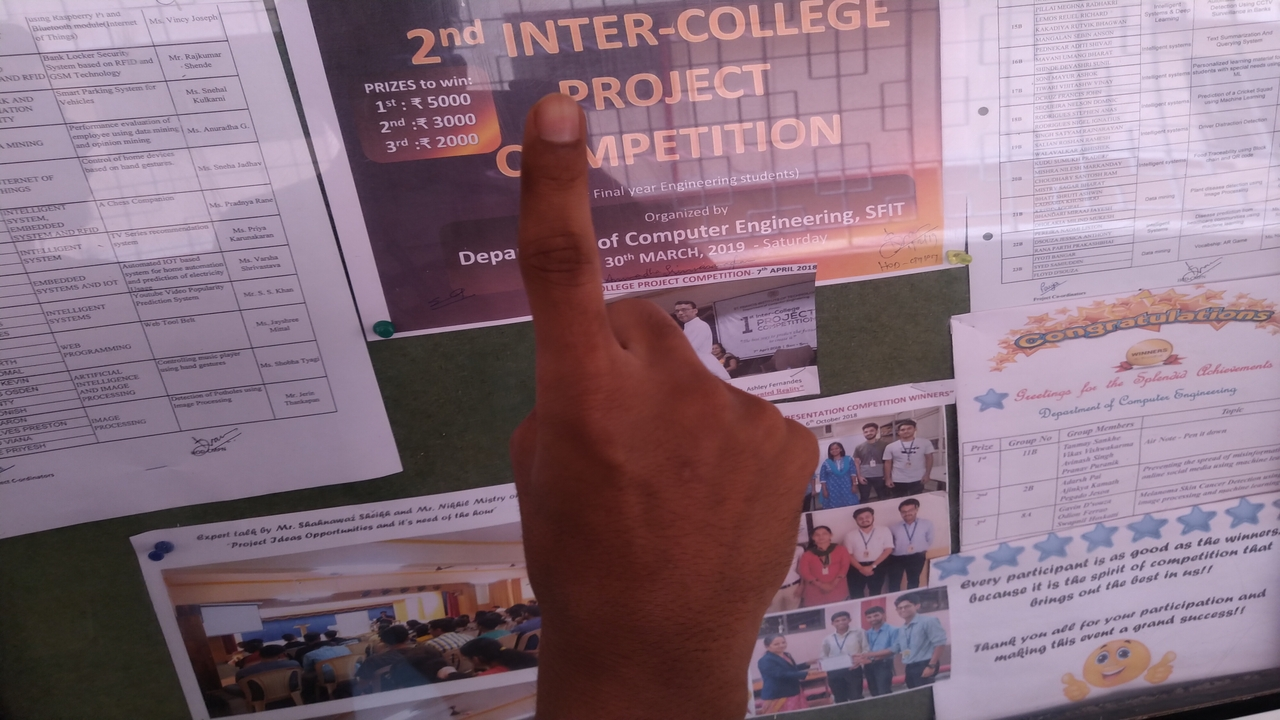fingertip: (520, 86, 592, 156)
